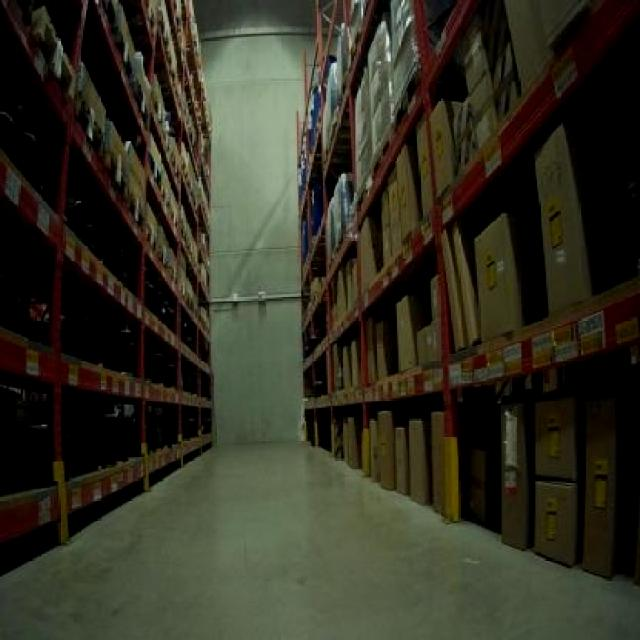floor: (0, 442, 637, 637)
pallets: (297, 0, 637, 577)
